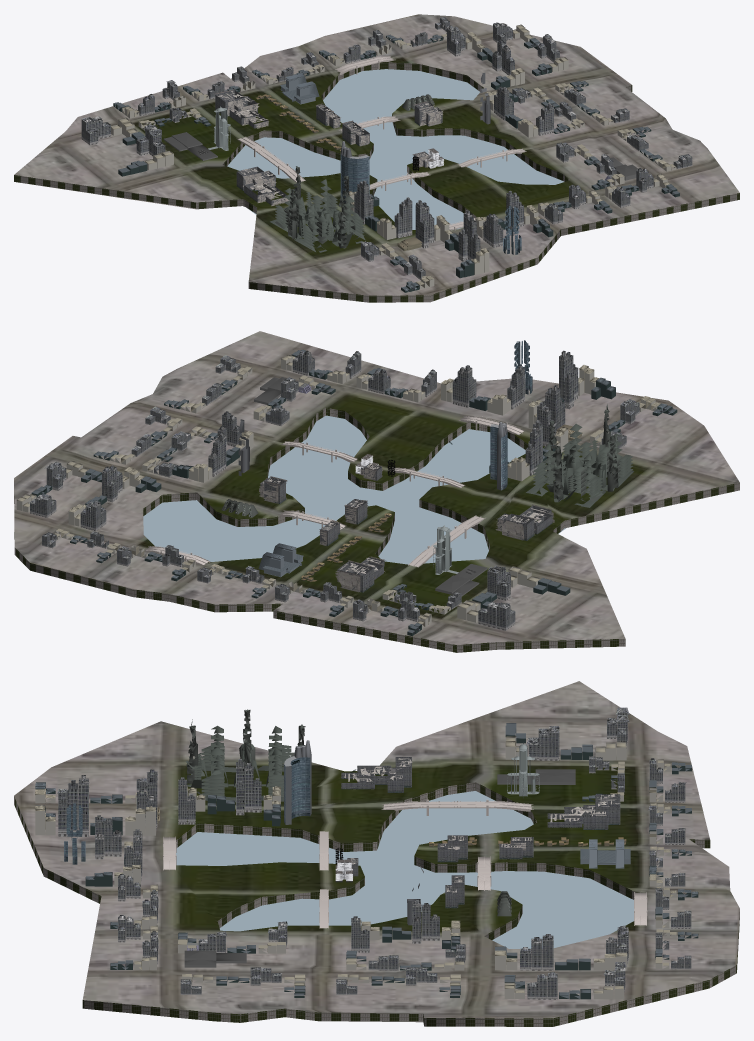
Rendered from city-map-free.glb.
3 renders of one model, top to bottom at view 1: azimuth 30°, elevation 25°; view 2: azimuth 150°, elevation 25°; view 3: azimuth 270°, elevation 25°, orthographic. The views are drawn at different scales.
Visible parts, largest first — view 1: PS3_Material_02, PS3_Material_00, PS3_Material_03, PS3_Material_04, PS3_Material_20, PS3_Material_09, PS3_Material_07, PS3_Material_01, PS3_Material_10, PS3_Material_15, PS3_Material_11, PS3_Material_13 (+2 smaller); view 2: PS3_Material_02, PS3_Material_00, PS3_Material_03, PS3_Material_04, PS3_Material_20, PS3_Material_09, PS3_Material_07, PS3_Material_10, PS3_Material_01, PS3_Material_11, PS3_Material_15, PS3_Material_13 (+3 smaller); view 3: PS3_Material_02, PS3_Material_00, PS3_Material_03, PS3_Material_04, PS3_Material_20, PS3_Material_07, PS3_Material_09, PS3_Material_10, PS3_Material_15, PS3_Material_11, PS3_Material_01, PS3_Material_24 (+2 smaller).
Part boxes in pixels (bbox=[...]): PS3_Material_02: bbox=[14, 14, 739, 302]; PS3_Material_00: bbox=[227, 69, 563, 229]; PS3_Material_03: bbox=[81, 17, 692, 279]; PS3_Material_04: bbox=[111, 24, 676, 289]; PS3_Material_20: bbox=[113, 34, 679, 292]; PS3_Material_09: bbox=[270, 94, 434, 252]; PS3_Material_07: bbox=[215, 90, 442, 205]; PS3_Material_01: bbox=[214, 89, 443, 206]; PS3_Material_10: bbox=[236, 56, 526, 230]; PS3_Material_15: bbox=[340, 154, 521, 254]; PS3_Material_11: bbox=[163, 132, 637, 180]; PS3_Material_13: bbox=[280, 73, 319, 104]; PS3_Material_02: bbox=[14, 331, 739, 652]; PS3_Material_00: bbox=[143, 415, 565, 564]; PS3_Material_03: bbox=[28, 350, 639, 630]; PS3_Material_04: bbox=[16, 355, 660, 628]; PS3_Material_20: bbox=[31, 349, 677, 635]; PS3_Material_09: bbox=[221, 404, 634, 517]; PS3_Material_07: bbox=[260, 464, 552, 592]; PS3_Material_10: bbox=[144, 416, 525, 567]; PS3_Material_01: bbox=[259, 463, 554, 592]; PS3_Material_11: bbox=[254, 377, 487, 596]; PS3_Material_15: bbox=[490, 340, 532, 490]; PS3_Material_13: bbox=[258, 543, 303, 577]; PS3_Material_02: bbox=[14, 681, 739, 1026]; PS3_Material_00: bbox=[176, 791, 634, 948]; PS3_Material_03: bbox=[57, 707, 691, 999]; PS3_Material_04: bbox=[35, 736, 676, 999]; PS3_Material_20: bbox=[35, 723, 698, 999]; PS3_Material_07: bbox=[341, 757, 620, 908]; PS3_Material_09: bbox=[185, 709, 511, 916]; PS3_Material_10: bbox=[163, 799, 647, 928]; PS3_Material_15: bbox=[64, 757, 310, 864]; PS3_Material_11: bbox=[184, 769, 575, 967]; PS3_Material_01: bbox=[344, 758, 620, 893]; PS3_Material_24: bbox=[284, 740, 423, 925].
Size of the model in its own units: 411 by 46.9 by 374.
Materials: 24 (21 with a texture image).
